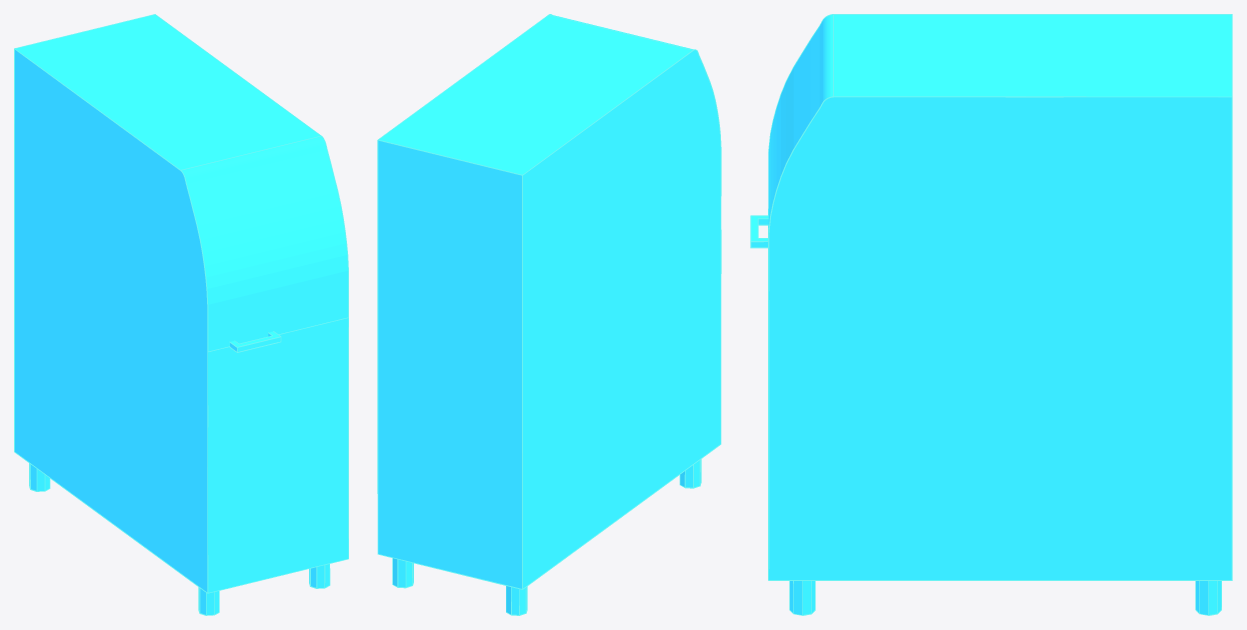
3 views of the same model, side by side, from view 1: azimuth 30°, elevation 25°; view 2: azimuth 150°, elevation 25°; view 3: azimuth 270°, elevation 25° (orthographic). The views are drawn at different scales.
Visible parts, largest first — view 1: 4_连接）; view 2: 4_连接）; view 3: 4_连接）.
Boxes of the visible parts, bbox=[...] form: 4_连接）: bbox=[14, 14, 348, 615]; 4_连接）: bbox=[377, 14, 721, 615]; 4_连接）: bbox=[750, 14, 1232, 615].
Size of the model in its own units: 48.83 by 144 by 120.
